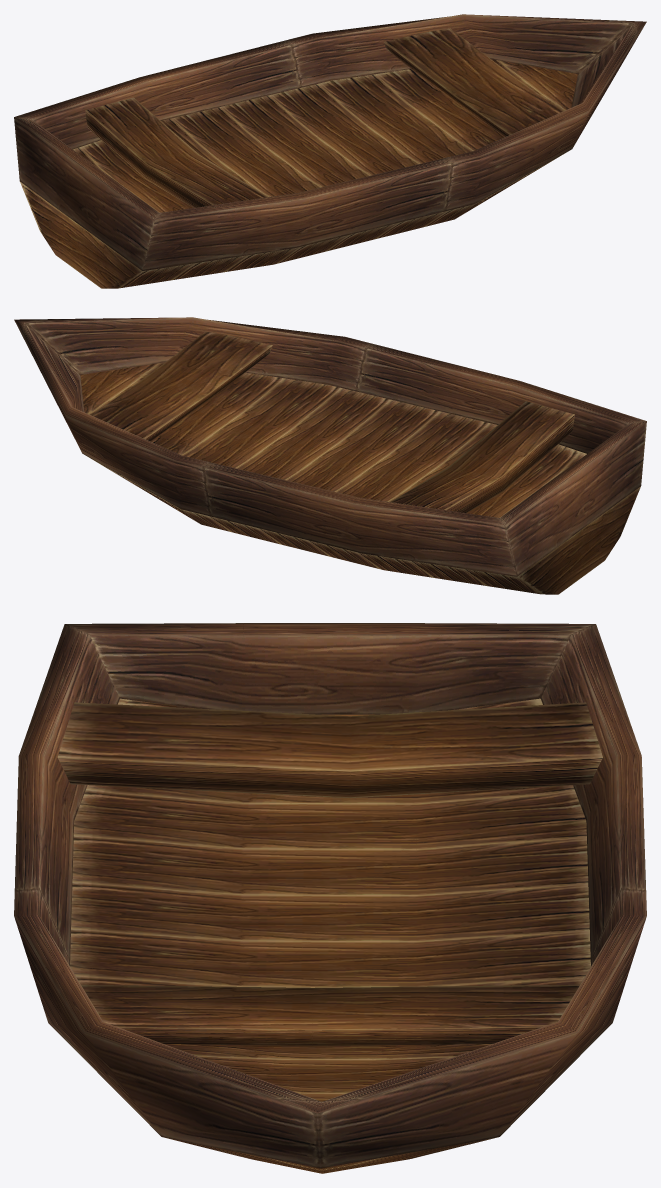
File: rowboat01.glb
The picture shows the model from 3 angles, top to bottom: view 1: azimuth 30°, elevation 25°; view 2: azimuth 150°, elevation 25°; view 3: azimuth 270°, elevation 25°; orthographic projection. The views are drawn at different scales.
Size of the model in its own units: 8.34 by 1.66 by 4.29.
Materials: 2 (2 with a texture image).
